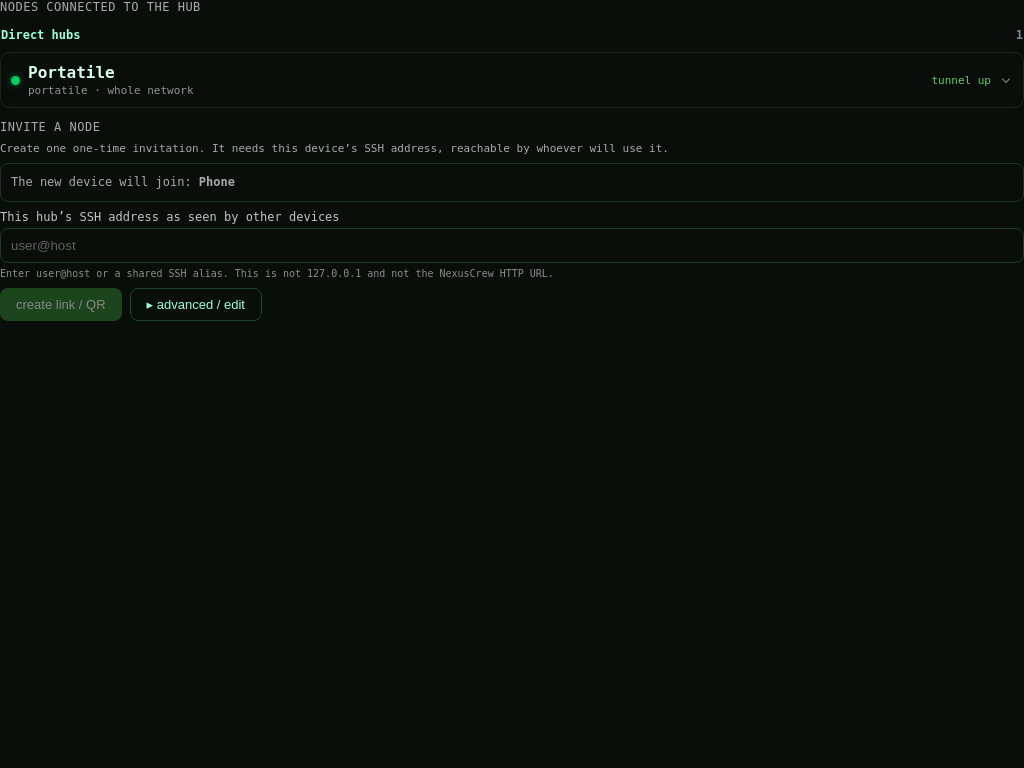
it: riga → foglio › la riga non porta azioni: le mostra il foglio che apre
Expected: the button "delete" is not shown
Click the button with class "nc-node-row" at {"x": 71, "y": 72}, box [0,52,1023,108]
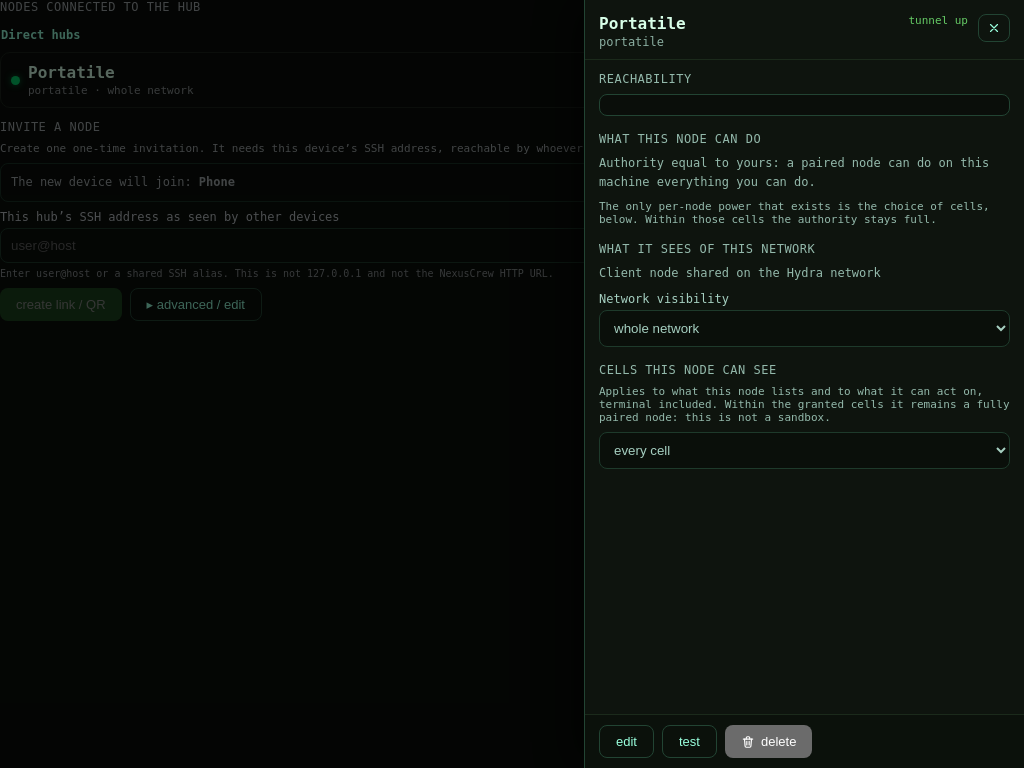
Expected: the dialog is shown, [584,0,1023,767]
Expected: the button "delete" is shown, [725,725,812,758]
